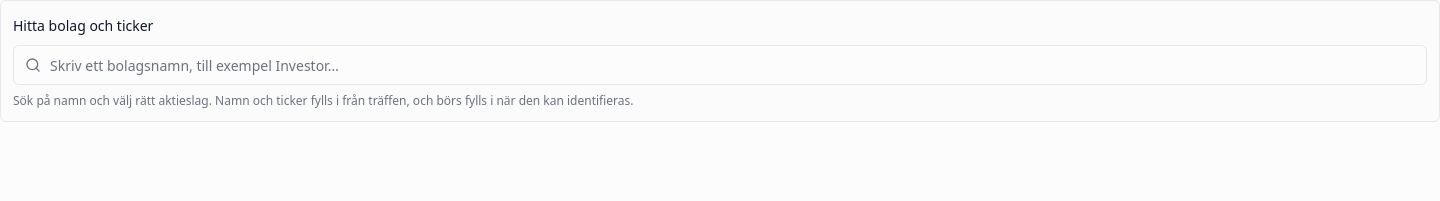
Test: company name search › ignores a late response after the user changes the company name
Later steps or results of the test are not shown.
Type "Investor" into the dropdown. click: (720, 65)
box: [13,45,1427,85]
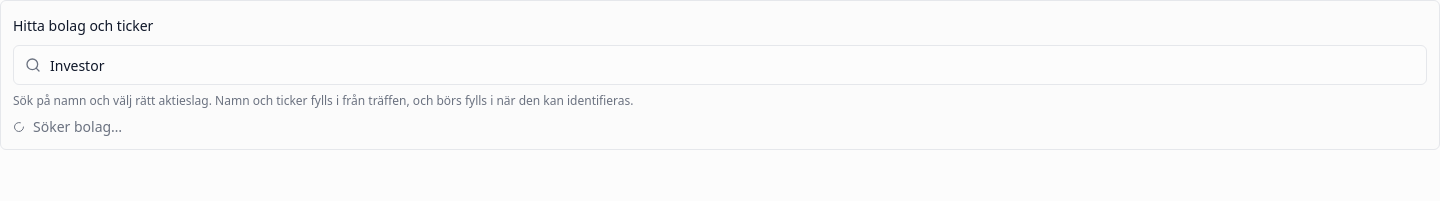
Replace the text in the dropdown with "Cheffelo". click: (720, 65)
box: [13,45,1427,85]
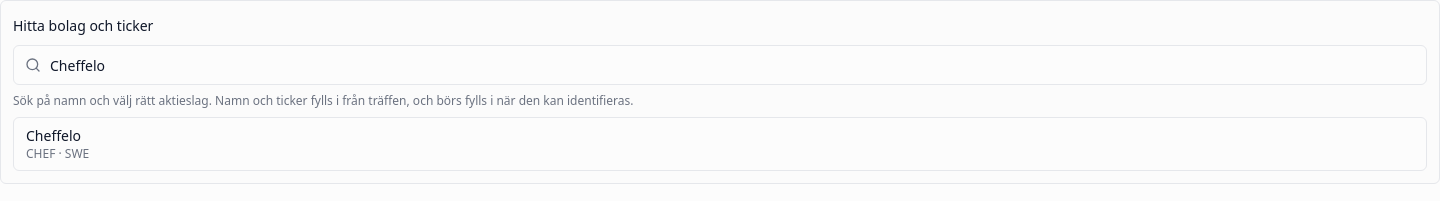
Expected: the option "Investor" is not shown
Result: the option "Cheffelo CHEF · SWE" is shown at [14,118,1426,170]
